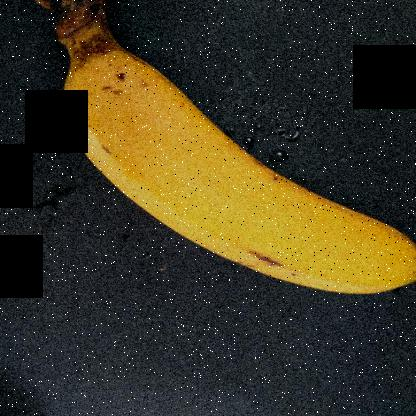freshripe: (41, 4, 415, 320)
